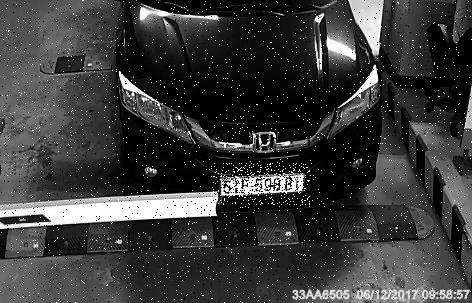License-plate: (212, 164, 311, 206)
